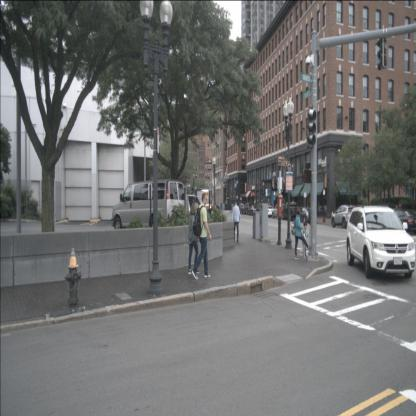human-pedestrian-adult: (192, 192, 212, 280), (291, 208, 311, 260), (187, 203, 200, 275), (232, 201, 240, 243)
vehicle-car: (346, 204, 416, 278), (110, 178, 187, 237), (387, 209, 415, 237), (331, 205, 356, 228), (272, 203, 288, 219), (298, 206, 311, 224), (247, 204, 260, 217), (265, 205, 275, 218), (243, 203, 253, 215), (238, 203, 246, 215)
vehicle-truck: (281, 202, 302, 221)
